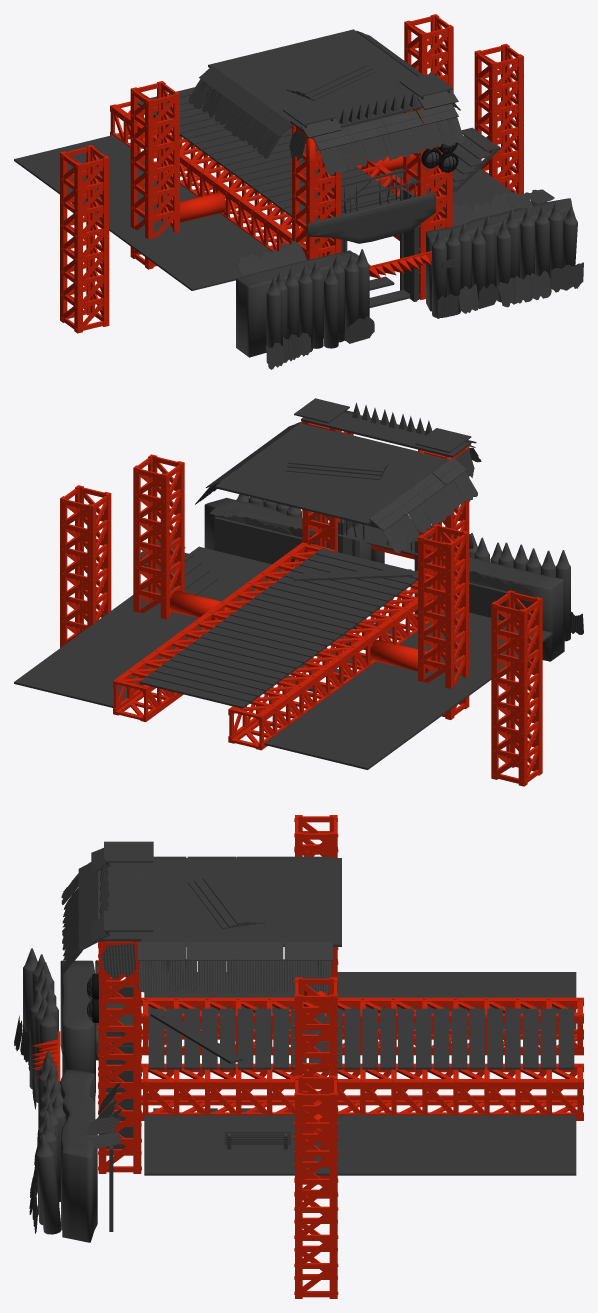
The model's file is OgreFortressExterior1.FBX.
The picture shows the model from 3 angles, top to bottom: view 1: azimuth 30°, elevation 25°; view 2: azimuth 150°, elevation 25°; view 3: azimuth 270°, elevation 25°; orthographic projection. The views are drawn at different scales.
Visible parts, largest first — view 1: OgreFortressExterior1; view 2: OgreFortressExterior1; view 3: OgreFortressExterior1.
Part boxes in pixels (x1,y1,x2,y2): OgreFortressExterior1: (14, 14, 583, 369); OgreFortressExterior1: (14, 398, 583, 786); OgreFortressExterior1: (14, 815, 583, 1298).
Bounding box in the file's own units: 3168 × 2877 × 1601.
